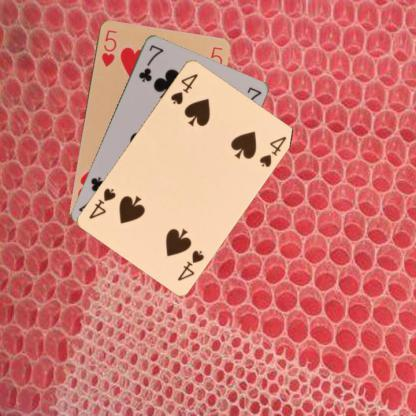4s: (167, 70, 200, 106), (174, 247, 206, 282)
5h: (99, 26, 118, 68)
7c: (136, 42, 164, 83)
